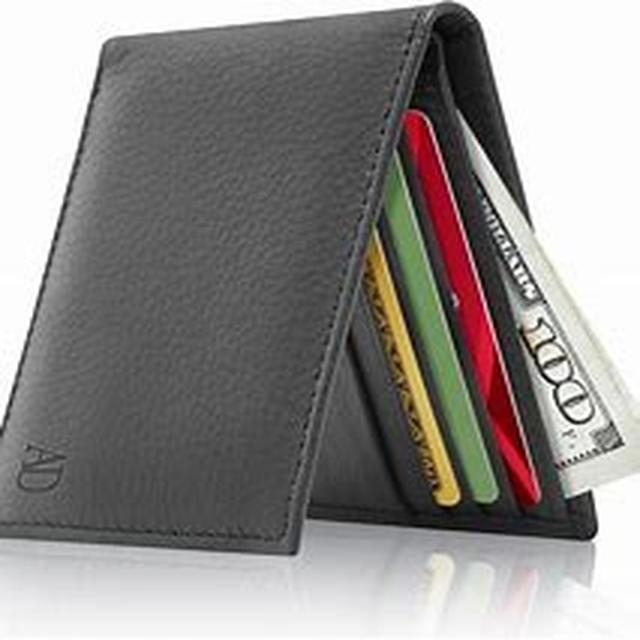wallet: (0, 29, 586, 580)
